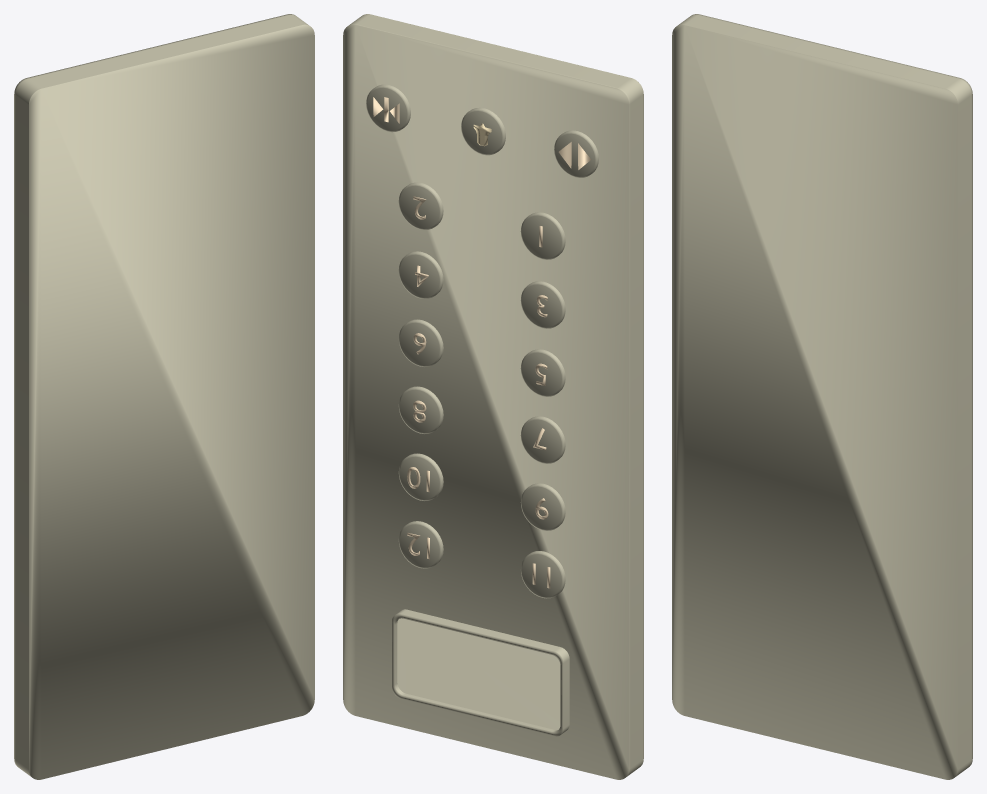
The picture shows the model from 3 angles, left to right: view 1: azimuth 30°, elevation 25°; view 2: azimuth 150°, elevation 25°; view 3: azimuth 330°, elevation 25°; orthographic projection.
Visible parts, largest first — view 1: imagetostl_mesh0; view 2: imagetostl_mesh0; view 3: imagetostl_mesh0.
Boxes of the visible parts, x1=… form: imagetostl_mesh0: x1=14, y1=14, x2=314, y2=779; imagetostl_mesh0: x1=343, y1=14, x2=643, y2=779; imagetostl_mesh0: x1=672, y1=14, x2=972, y2=779.
Bounding box in the file's own units: 2.32 × 5.35 × 0.2938.
